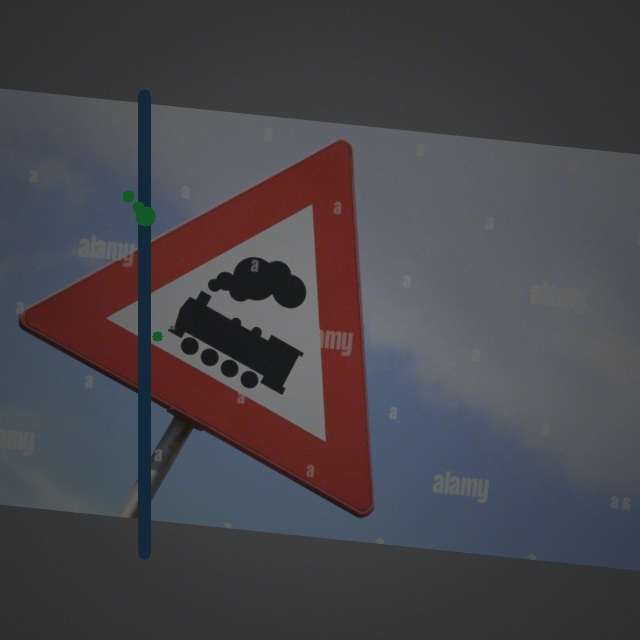Unguarded_Level_Crossing: (44, 116, 411, 470)
